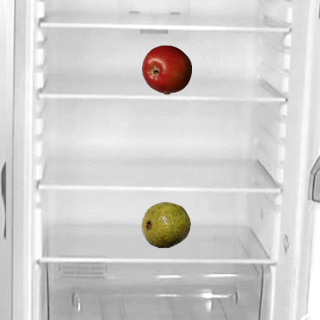Apple Braeburn: (141, 44, 191, 94)
Guava: (140, 199, 190, 249)
